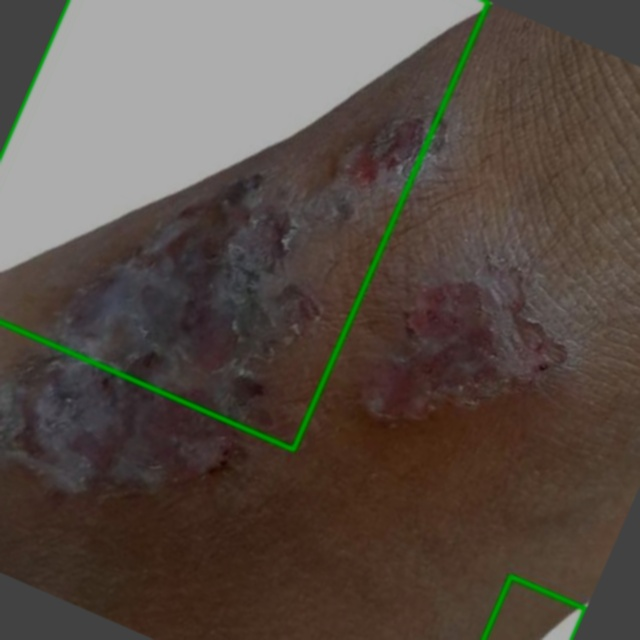Contact Dermatitis: (0, 0, 488, 449)
